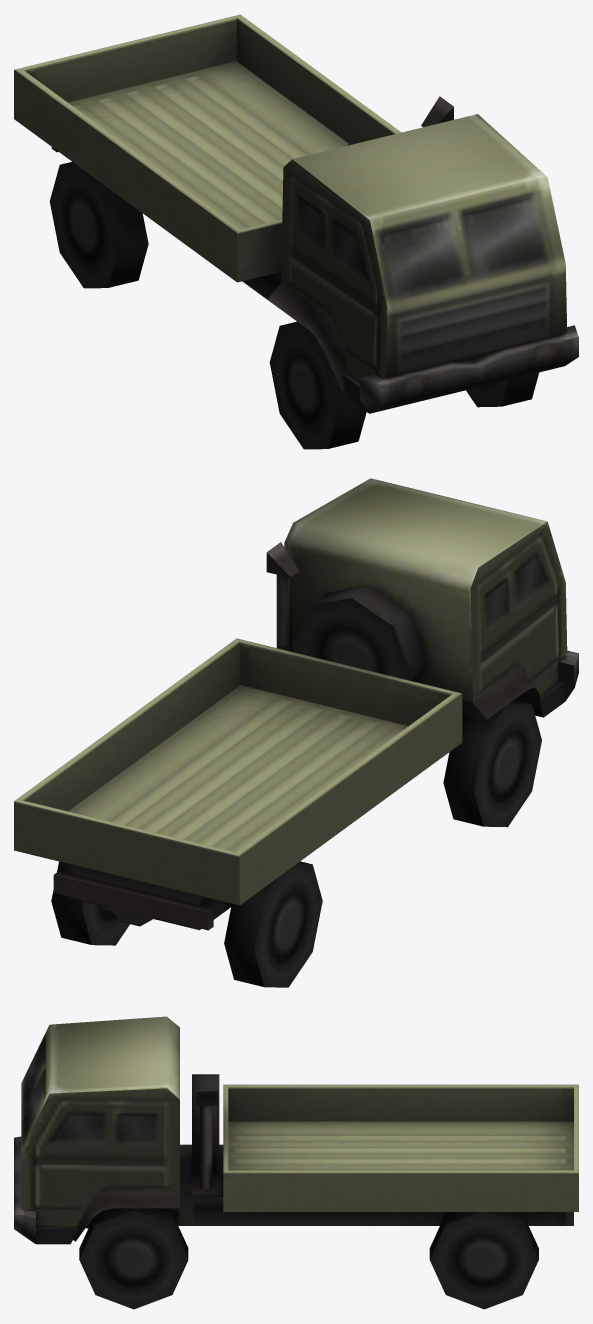
The model's file is MTV.DAE.
The picture shows the model from 3 angles, top to bottom: view 1: azimuth 30°, elevation 25°; view 2: azimuth 150°, elevation 25°; view 3: azimuth 270°, elevation 25°; orthographic projection. The views are drawn at different scales.
Parts seen in each view (by area): view 1: _1132_MTV; view 2: _1132_MTV; view 3: _1132_MTV.
Boxes of the visible parts, x1,y1,x2,y2 form: _1132_MTV: (14,14,578,449); _1132_MTV: (14,478,578,987); _1132_MTV: (14,1016,578,1309).
Size of the model in its own units: 69.38 by 79.89 by 188.
1 material, 1 textured.
